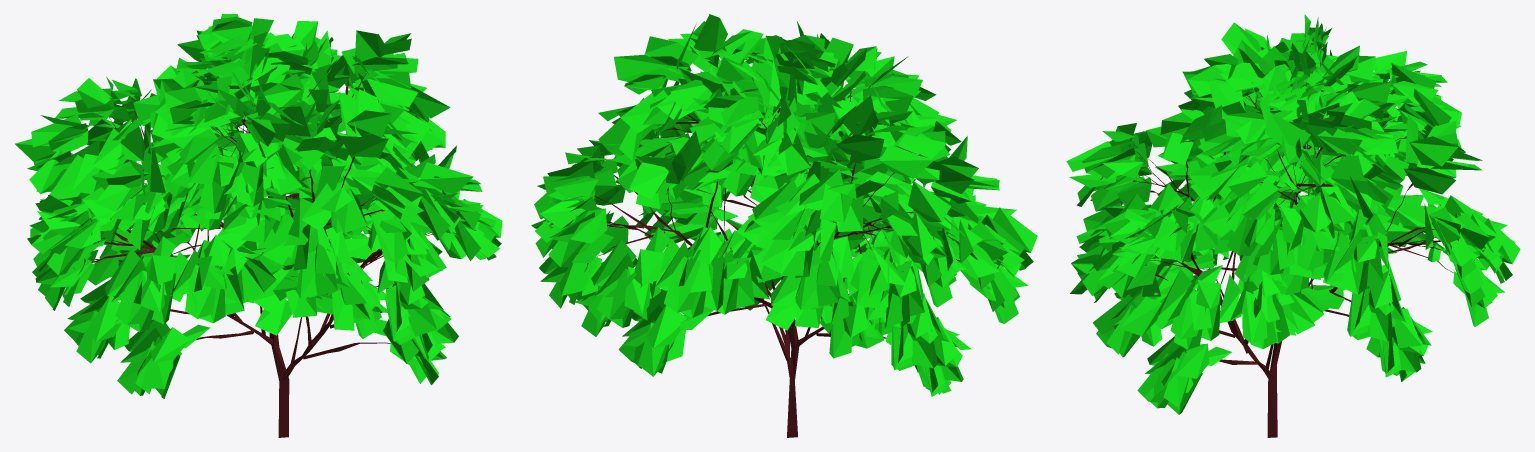
3 renders of one model, left to right at view 1: azimuth 30°, elevation 25°; view 2: azimuth 150°, elevation 25°; view 3: azimuth 270°, elevation 25°, orthographic. The views are drawn at different scales.
Parts seen in each view (by area): view 1: trunk.002_Feuilles_0, trunk.002_Bois_0; view 2: trunk.002_Feuilles_0, trunk.002_Bois_0; view 3: trunk.002_Feuilles_0, trunk.002_Bois_0.
Boxes of the visible parts, x1,y1,x2,y2 form: trunk.002_Feuilles_0: (15, 14, 502, 398); trunk.002_Bois_0: (88, 79, 434, 437); trunk.002_Feuilles_0: (531, 14, 1037, 396); trunk.002_Bois_0: (594, 65, 960, 437); trunk.002_Feuilles_0: (1066, 14, 1520, 414); trunk.002_Bois_0: (1133, 45, 1453, 437).
Bounding box in the file's own units: 456 × 432 × 446.
